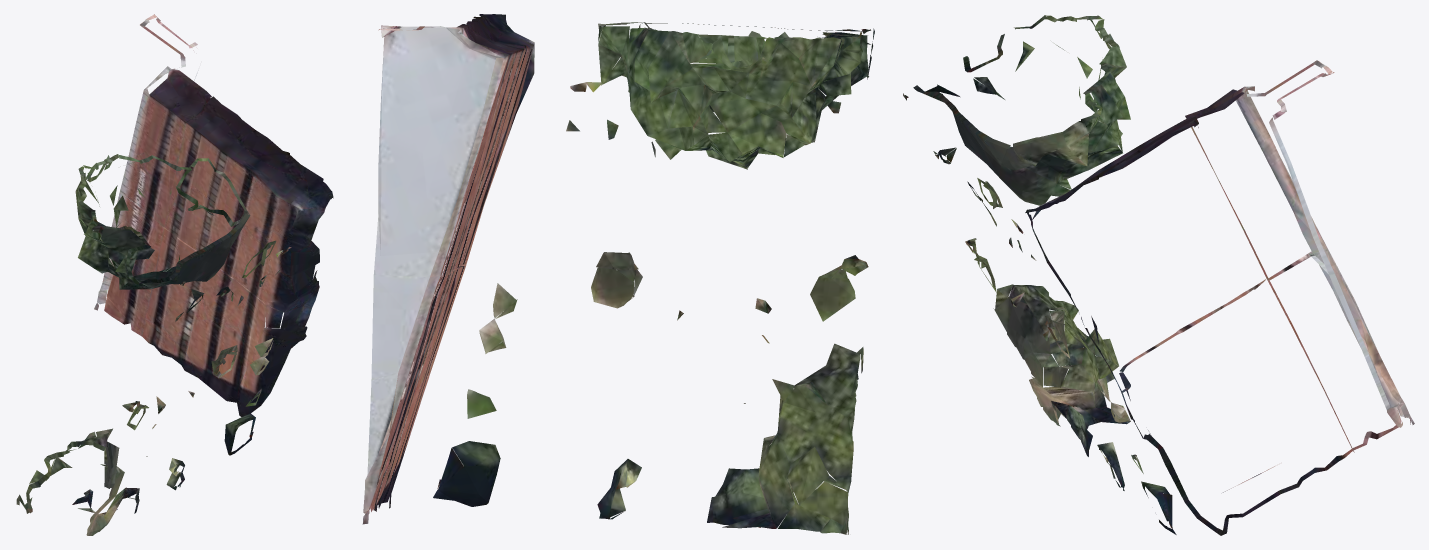
File: AJVsH2yugi0D4AcFtXh_FTBIsGOAUQU5fYi08kGstMNm5hqvy83XP2_RclQ0v8TBVJpQfIrDmoMMqThSlVk88sir7nCPEVKZTo6PhLqBmDgX9Myc6F3fPEUIjSeQPz55GBOibJUbLrfqm50dyanxastWuhLw.glb
3 views of the same model, side by side, from view 1: azimuth 30°, elevation 25°; view 2: azimuth 150°, elevation 25°; view 3: azimuth 270°, elevation 25° (orthographic). The views are drawn at different scales.
Bounding box in the file's own units: 38.44 × 47.26 × 48.01.
2 materials, 2 textured.
